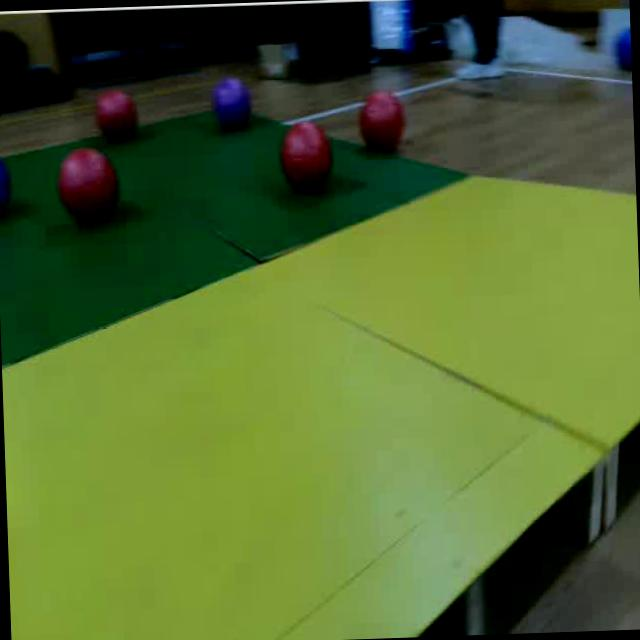blue_ball: (0, 141, 17, 220), (617, 22, 632, 78)
purple_ball: (208, 71, 254, 138)
red_ball: (54, 140, 120, 233), (276, 116, 332, 194), (356, 83, 410, 160), (92, 85, 138, 143)
